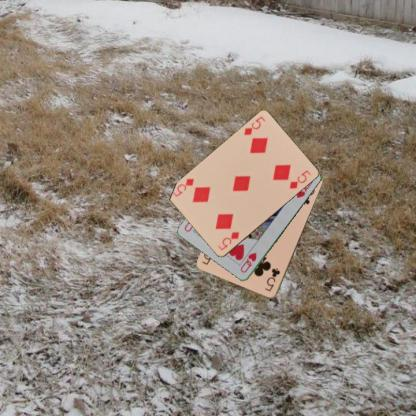5c: (262, 266, 282, 293)
5d: (215, 229, 241, 252), (241, 114, 266, 137)
Qh: (238, 250, 258, 275)
